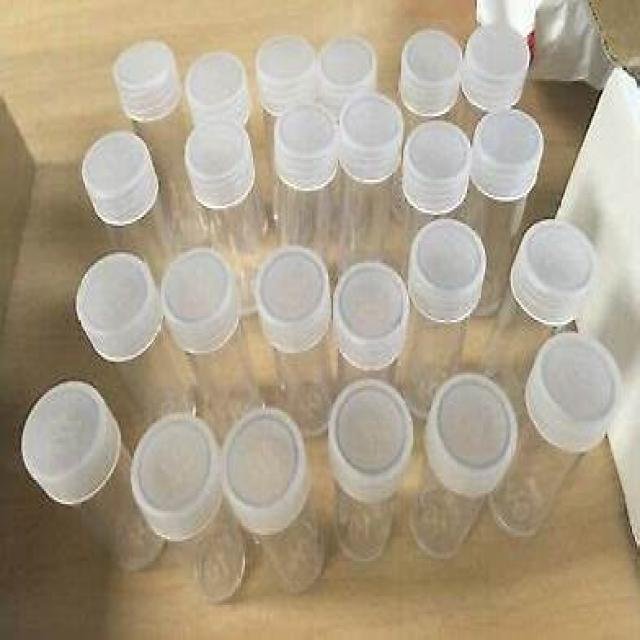vial: (128, 416, 212, 513), (23, 389, 104, 489), (229, 418, 301, 506), (437, 382, 508, 470), (82, 262, 158, 340), (539, 343, 610, 419), (259, 253, 325, 327), (418, 225, 480, 302), (333, 385, 394, 462), (522, 224, 592, 291), (477, 110, 544, 178), (335, 272, 399, 340), (173, 259, 236, 324), (84, 136, 151, 197), (468, 20, 529, 83), (183, 52, 246, 112), (409, 125, 471, 182), (186, 126, 248, 180), (409, 31, 466, 88), (117, 44, 177, 98), (256, 34, 316, 84), (321, 41, 377, 92), (346, 99, 394, 155), (280, 109, 334, 157)
